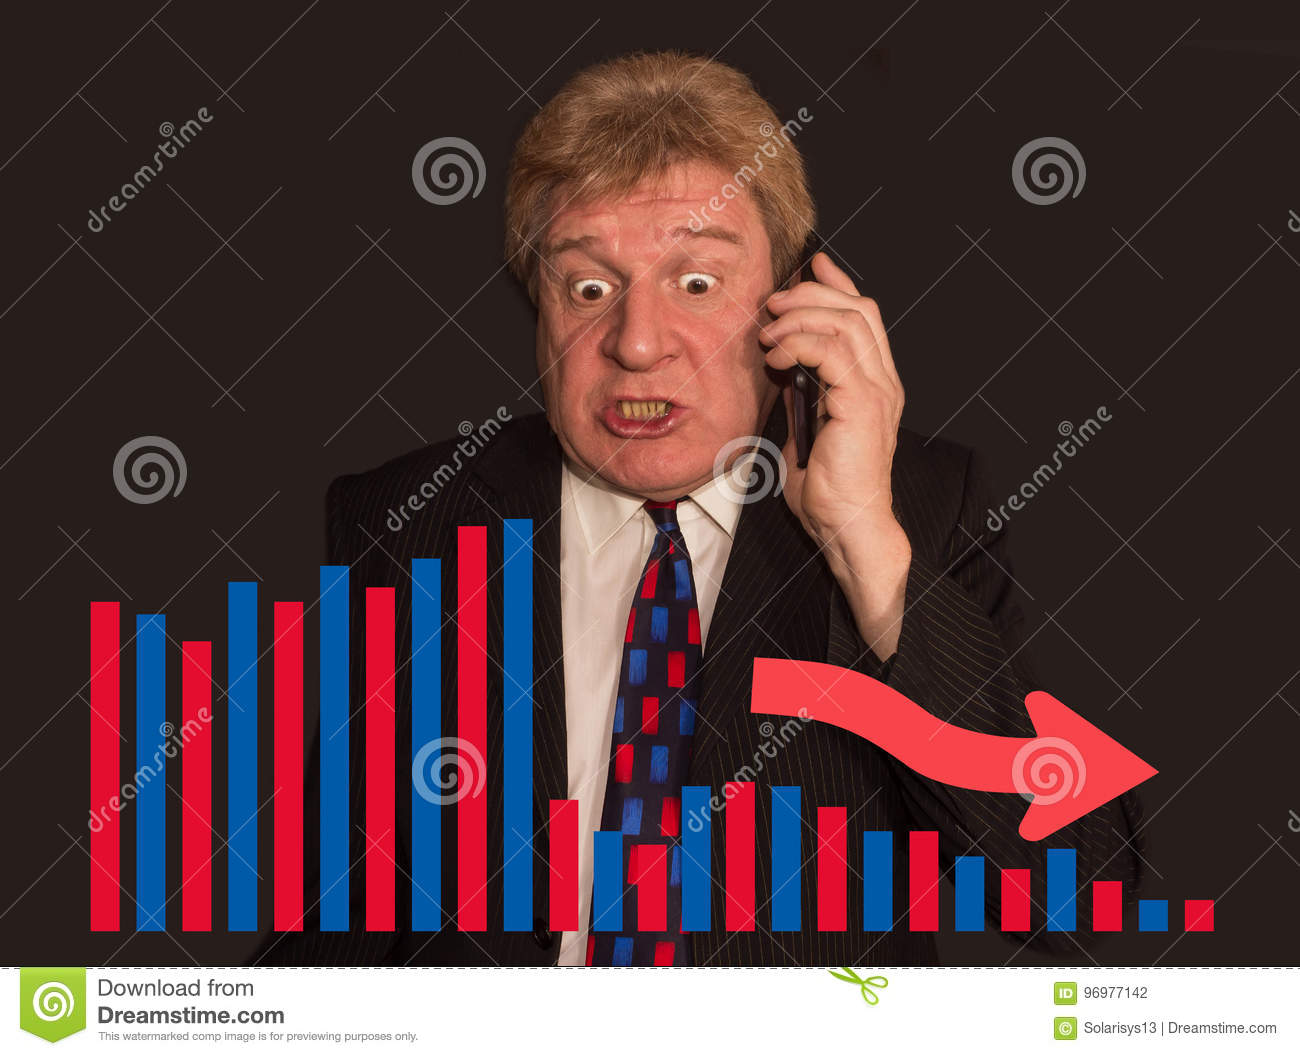phone: (782, 239, 831, 483)
talk: (539, 221, 909, 567)
